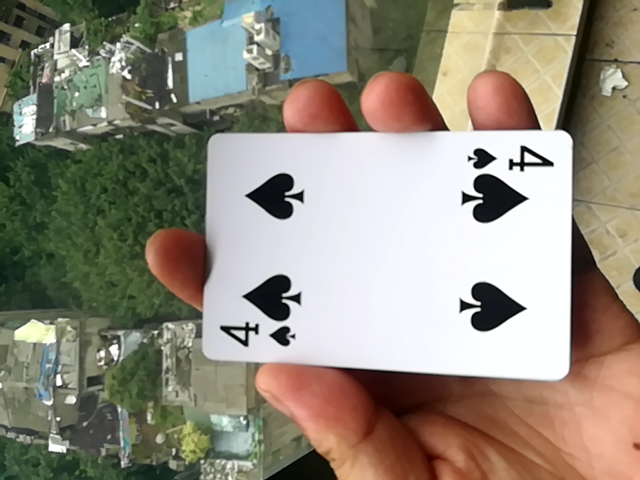ht 4: (194, 125, 569, 387)
